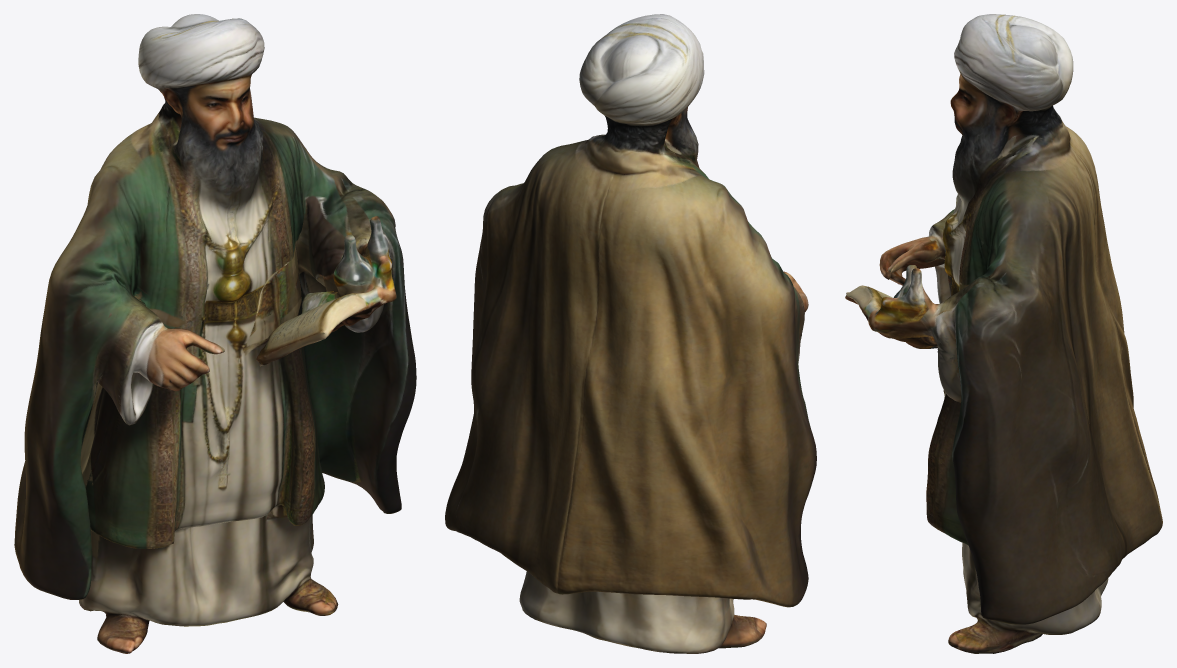
File: jabir_ibn_hayyan.glb
3 renders of one model, left to right at view 1: azimuth 30°, elevation 25°; view 2: azimuth 150°, elevation 25°; view 3: azimuth 270°, elevation 25°, orthographic. The views are drawn at different scales.
Parts seen in each view (by area): view 1: Mesh1_Mesh1.045; view 2: Mesh1_Mesh1.045; view 3: Mesh1_Mesh1.045.
Boxes of the visible parts, x1=… form: Mesh1_Mesh1.045: x1=14, y1=14, x2=416, y2=653; Mesh1_Mesh1.045: x1=445, y1=14, x2=816, y2=653; Mesh1_Mesh1.045: x1=845, y1=14, x2=1162, y2=653.
Bounding box in the file's own units: 1.23 × 1.99 × 0.9877.
1 material, 1 textured.
